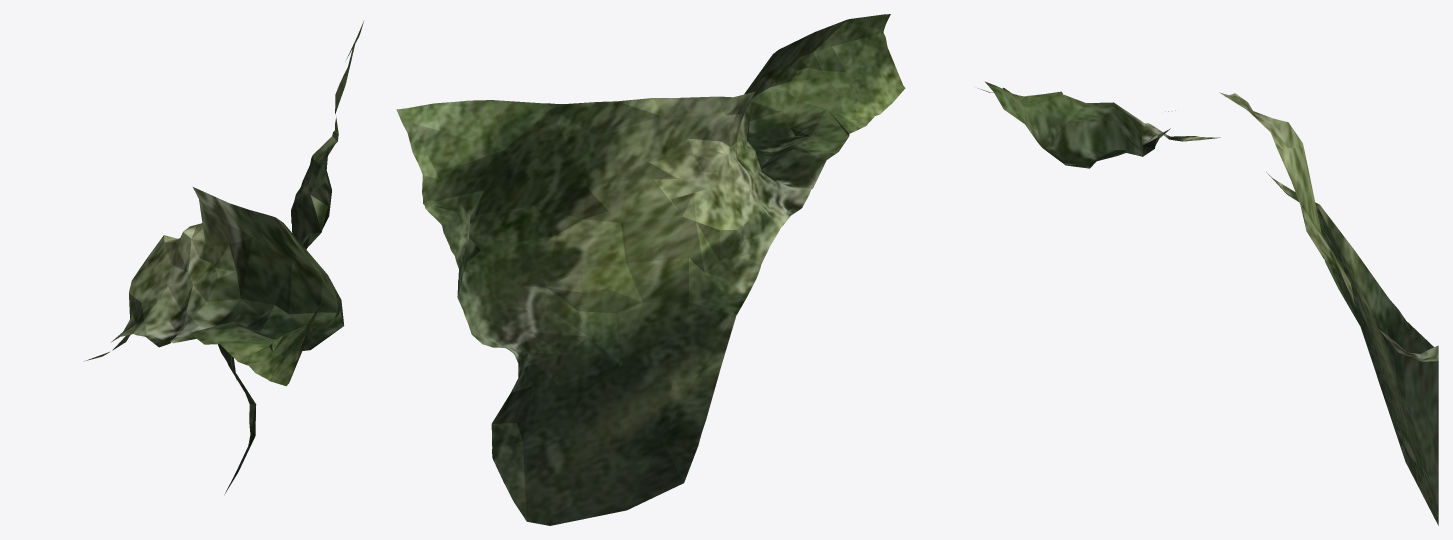
3 views of the same model, side by side, from view 1: azimuth 30°, elevation 25°; view 2: azimuth 150°, elevation 25°; view 3: azimuth 270°, elevation 25° (orthographic). The views are drawn at different scales.
Size of the model in its own units: 4.42 by 5.59 by 5.9.
2 materials, 2 textured.
